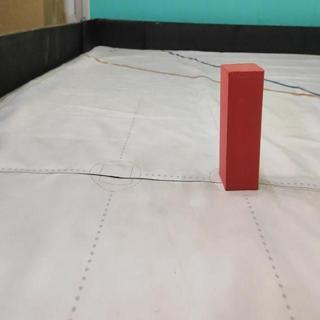redbox: (219, 63, 264, 191)
